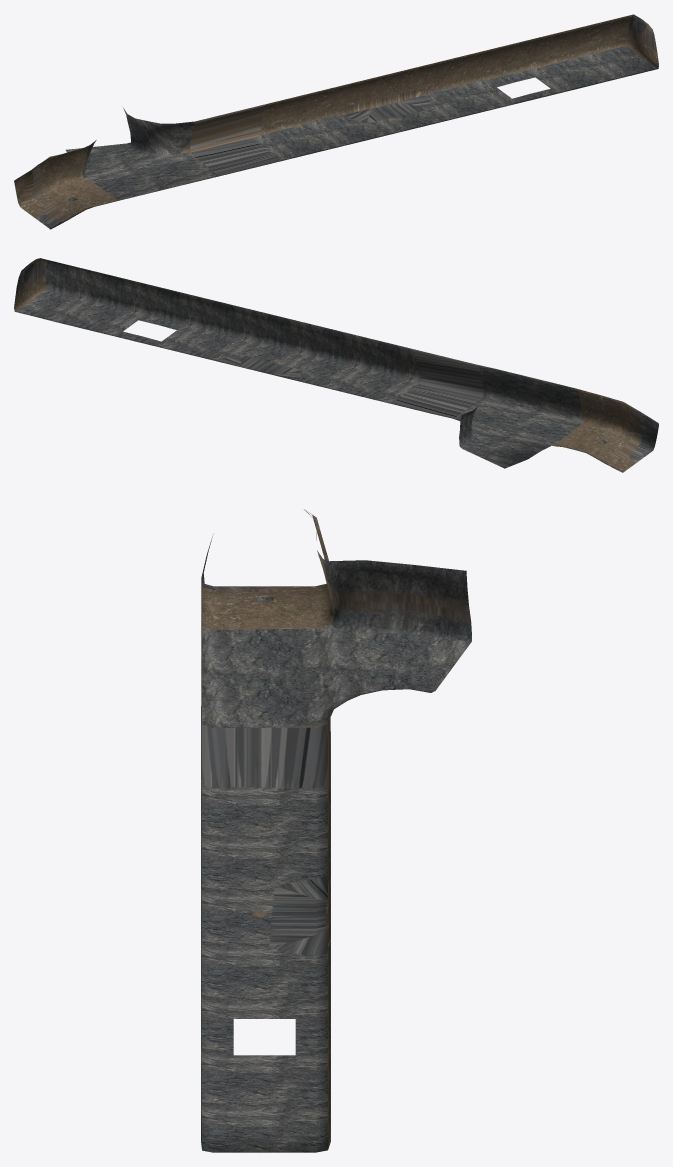
Rendered from SlopeA.glb.
The picture shows the model from 3 angles, top to bottom: view 1: azimuth 30°, elevation 25°; view 2: azimuth 150°, elevation 25°; view 3: azimuth 270°, elevation 25°; orthographic projection. The views are drawn at different scales.
Parts seen in each view (by area): view 1: SlopeA; view 2: SlopeA; view 3: SlopeA.
Part boxes in pixels (x1,y1,x2,y2): SlopeA: (14, 14, 658, 229); SlopeA: (14, 258, 658, 472); SlopeA: (201, 509, 471, 1152).
Size of the model in its own units: 34.57 by 2.86 by 6.56.
Materials: 1 (1 with a texture image).
